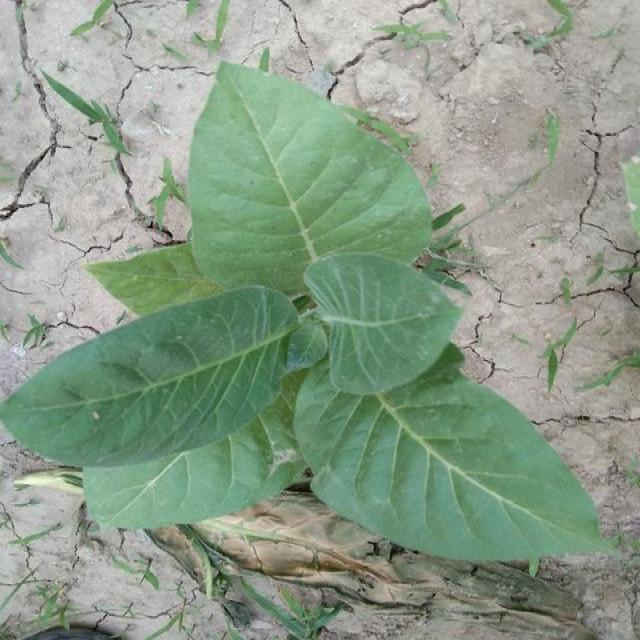crop: (9, 55, 621, 576)
